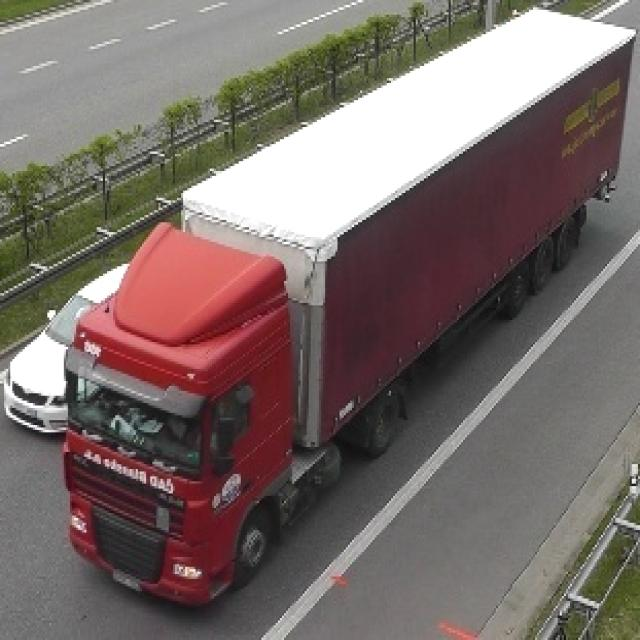TRUCK: (69, 2, 640, 604)
